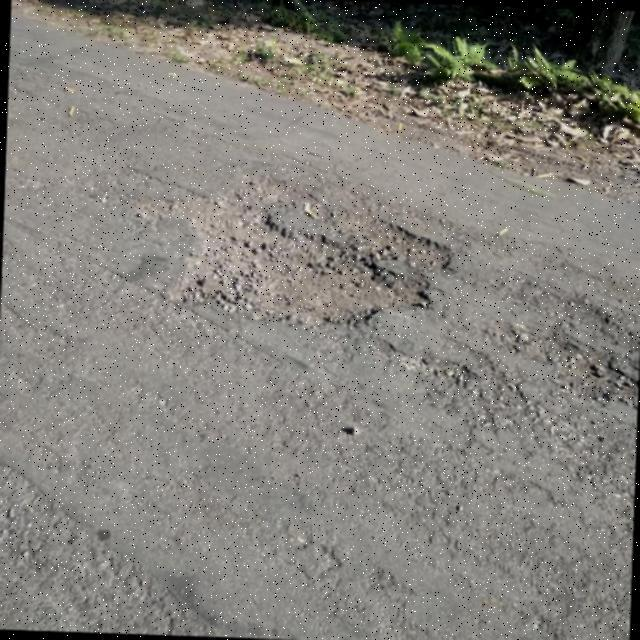Pothole: (171, 206, 452, 321)
